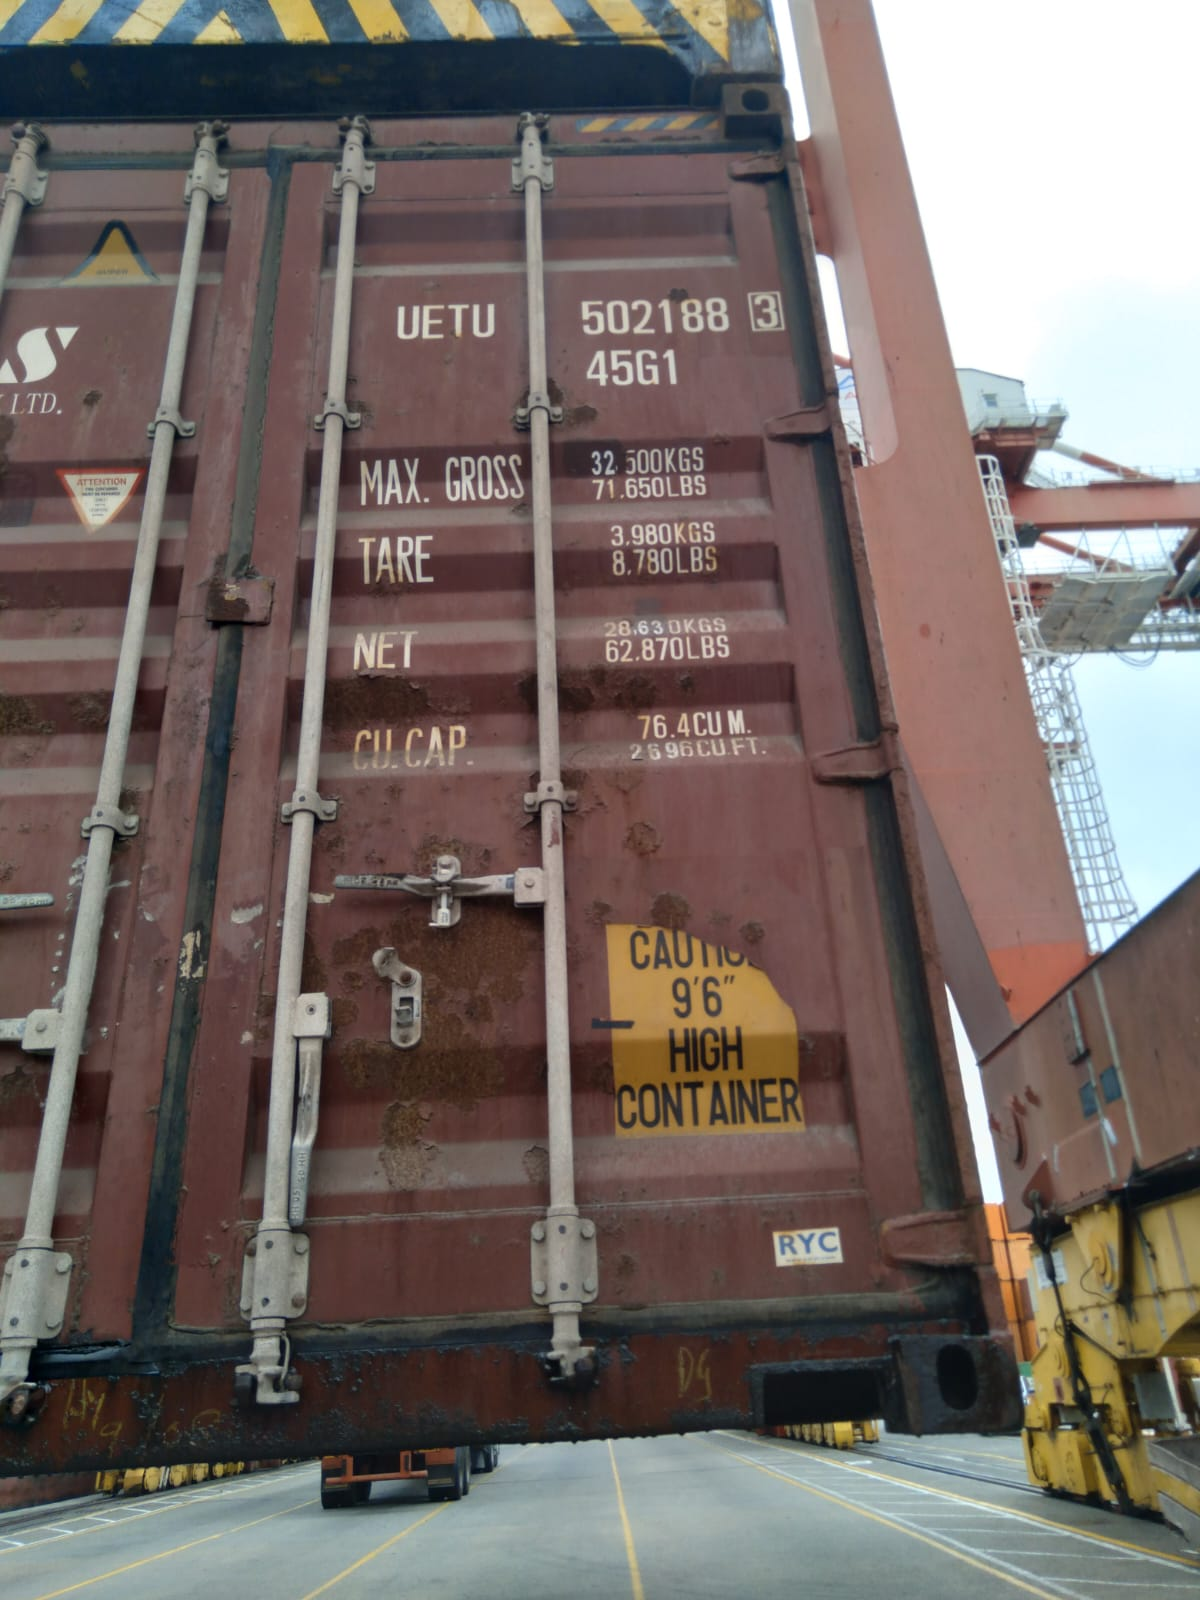minor: (211, 745, 671, 1179)
